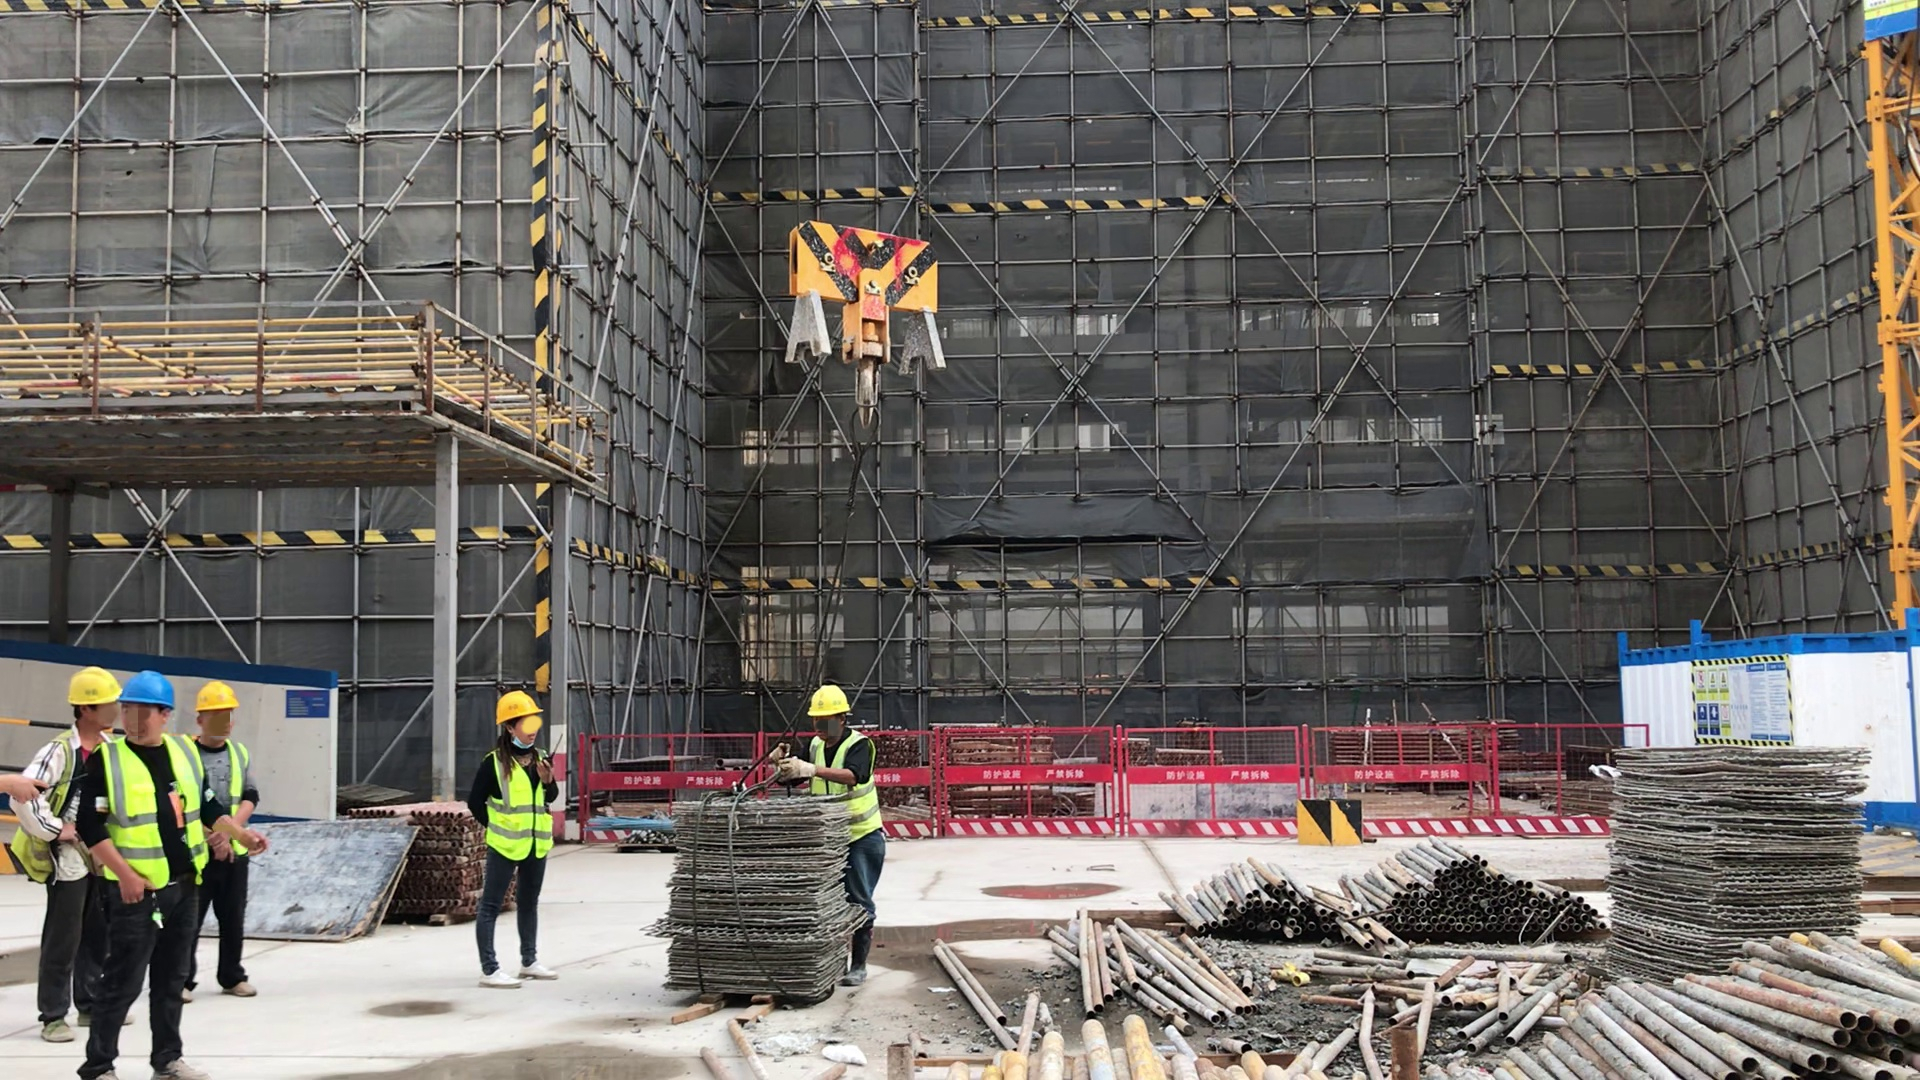fence: (579, 722, 1648, 851)
helmet: (120, 670, 175, 714), (69, 665, 120, 708), (493, 689, 544, 724), (194, 681, 238, 716), (806, 687, 851, 715)
hook: (789, 218, 952, 427)
person: (77, 671, 213, 1080), (16, 674, 134, 1041), (769, 685, 884, 986), (467, 691, 562, 991), (182, 681, 260, 1001)
scaffold: (1605, 746, 1861, 972), (671, 804, 851, 1000), (409, 797, 498, 927)
vest: (100, 737, 209, 888), (809, 735, 883, 841), (485, 745, 554, 861), (193, 739, 251, 849)
